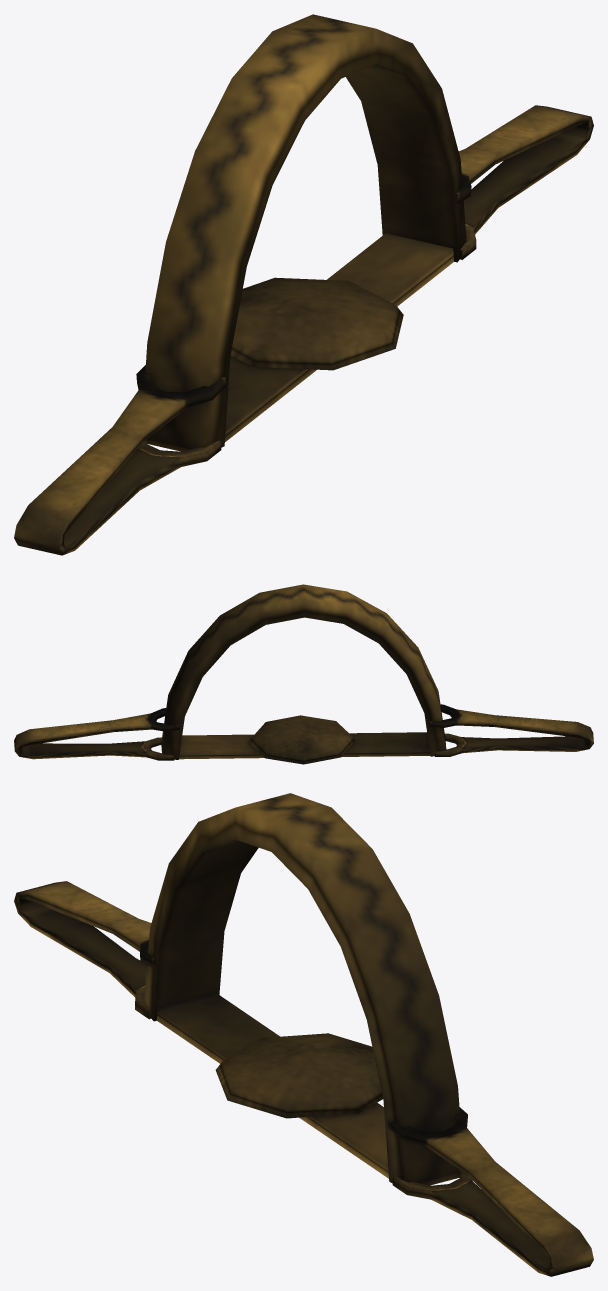
The model's file is bear trap closed.fbx.
3 renders of one model, top to bottom at view 1: azimuth 30°, elevation 25°; view 2: azimuth 150°, elevation 25°; view 3: azimuth 270°, elevation 25°, orthographic. The views are drawn at different scales.
Parts seen in each view (by area): view 1: Closedtrap2; view 2: Closedtrap2; view 3: Closedtrap2.
Part boxes in pixels (<box>): Closedtrap2: <box>14,14,593,555</box>; Closedtrap2: <box>14,584,593,764</box>; Closedtrap2: <box>14,793,593,1276</box>.
Size of the model in its own units: 0.9989 by 0.3443 by 0.646.
